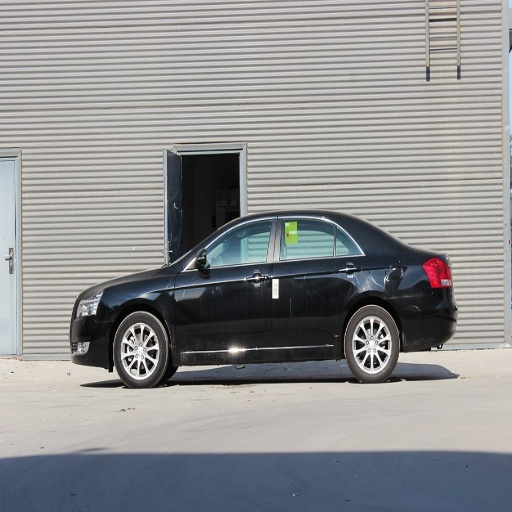back_left_door: (270, 215, 366, 343)
front_left_door: (178, 215, 276, 361)
